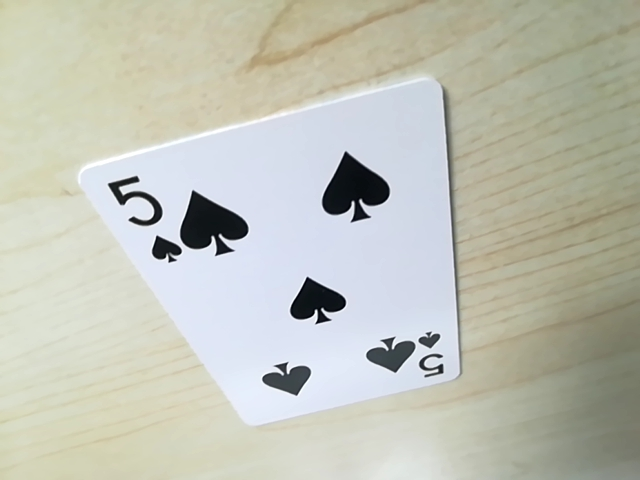ht 5: (106, 168, 178, 268), (411, 328, 453, 387)
